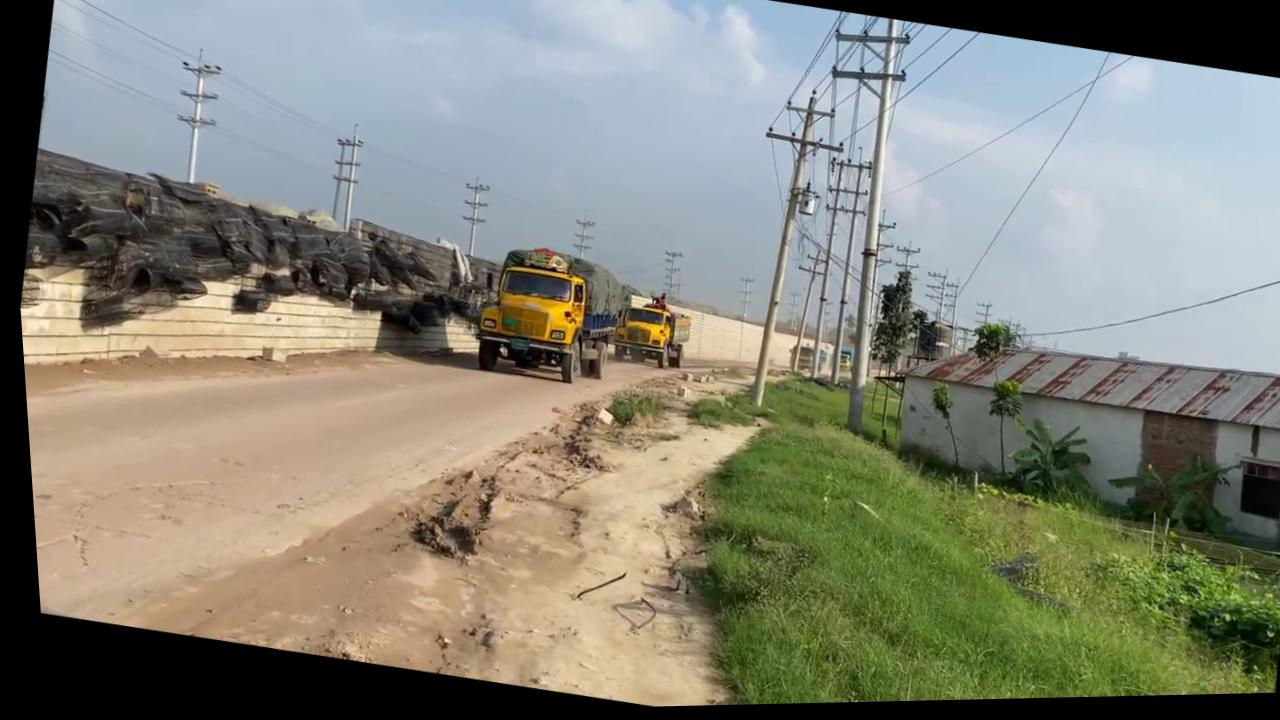Garbage: (8, 138, 496, 392)
Muddy road: (13, 235, 797, 720)
Pole: (811, 21, 931, 439), (716, 85, 852, 418)
Traffic-sign: (993, 415, 1093, 509), (968, 378, 1024, 481)
Tree: (459, 237, 632, 395), (600, 289, 691, 375)
